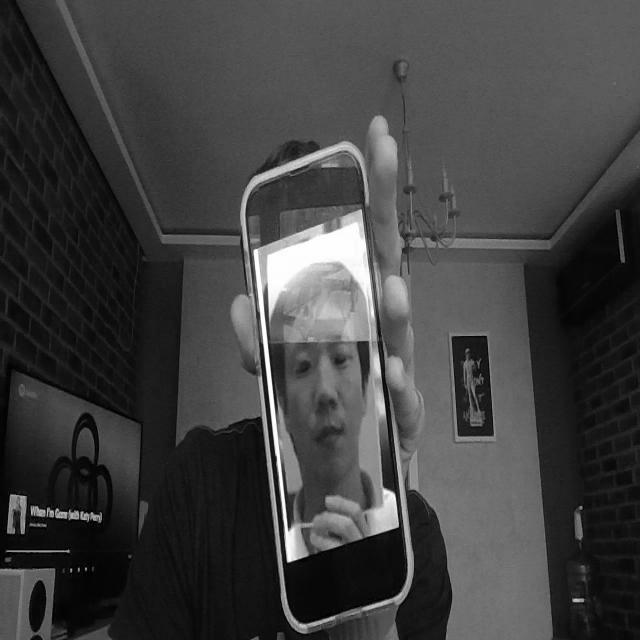fake: (238, 137, 416, 635)
